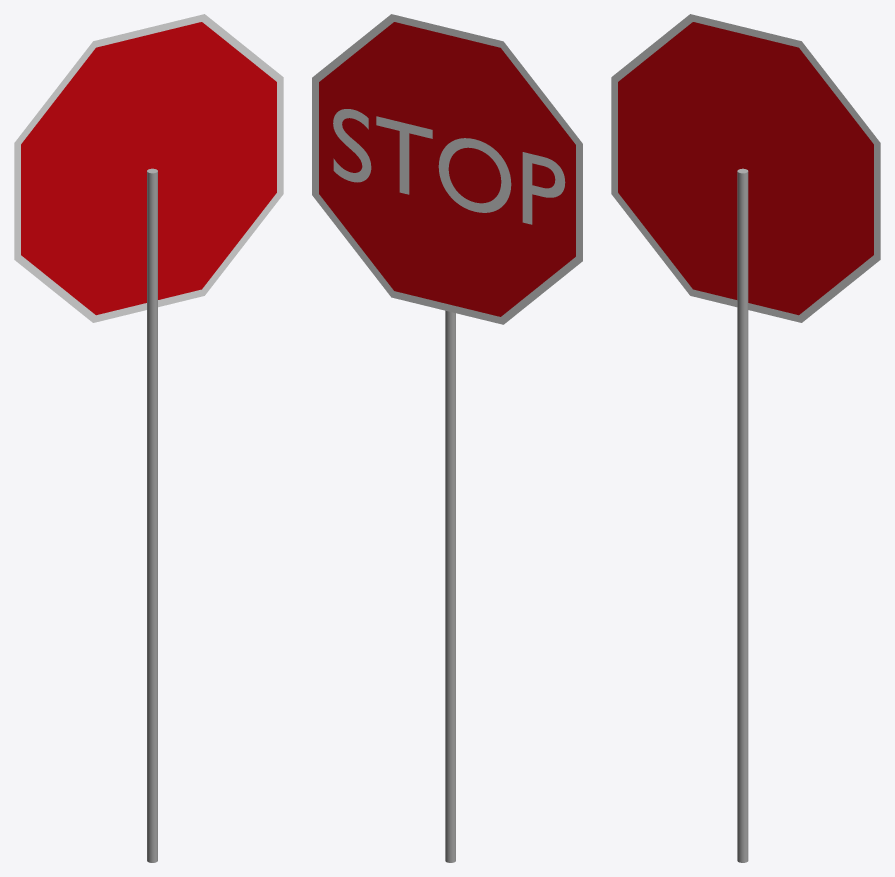
The model's file is stop_sign.glb.
3 views of the same model, side by side, from view 1: azimuth 30°, elevation 25°; view 2: azimuth 150°, elevation 25°; view 3: azimuth 330°, elevation 25° (orthographic).
Parts seen in each view (by area): view 1: Stopsign; view 2: Stopsign; view 3: Stopsign.
Boxes of the visible parts, box(x1,y1,x2,y2) form: Stopsign: box(14, 14, 283, 862); Stopsign: box(312, 14, 582, 862); Stopsign: box(611, 14, 880, 862).
Bounding box in the file's own units: 0.2861 × 0.8431 × 0.0114.
